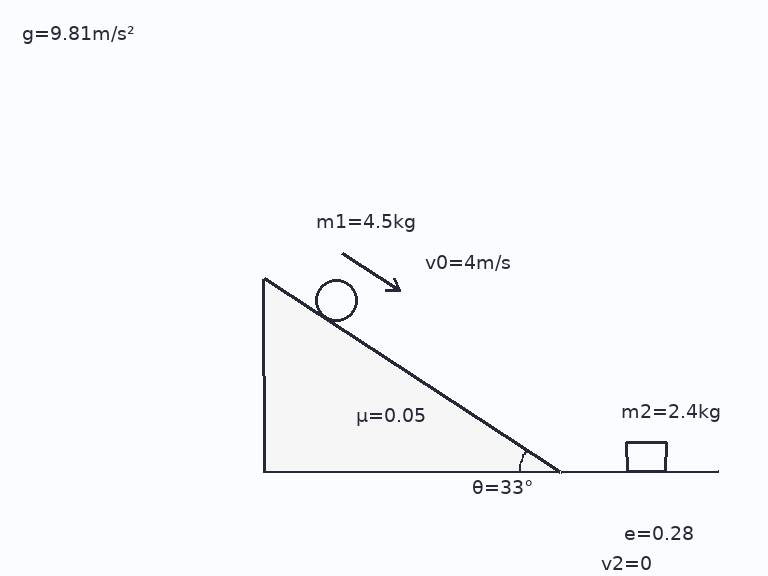ball: (313, 277, 359, 323)
block: (624, 440, 668, 473)
ramp: (262, 277, 562, 473)
